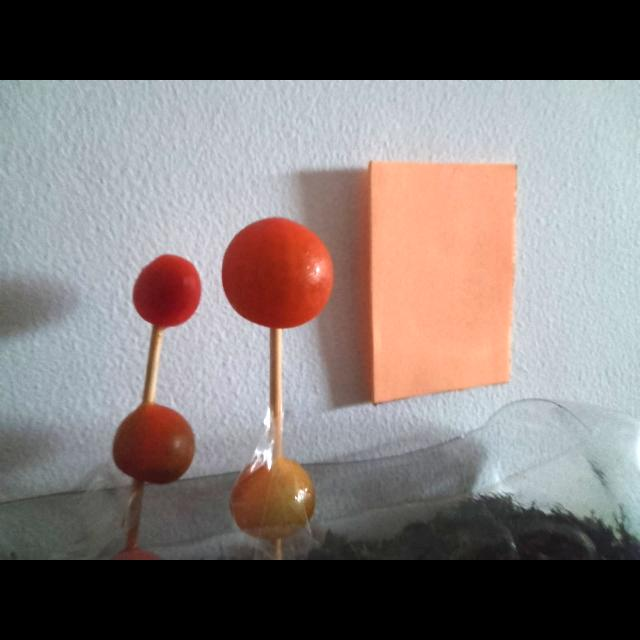card: (369, 162, 517, 404)
fruit_maturation: (230, 457, 315, 540)
fully_grown: (222, 218, 333, 328), (112, 403, 195, 484), (132, 255, 201, 328)
